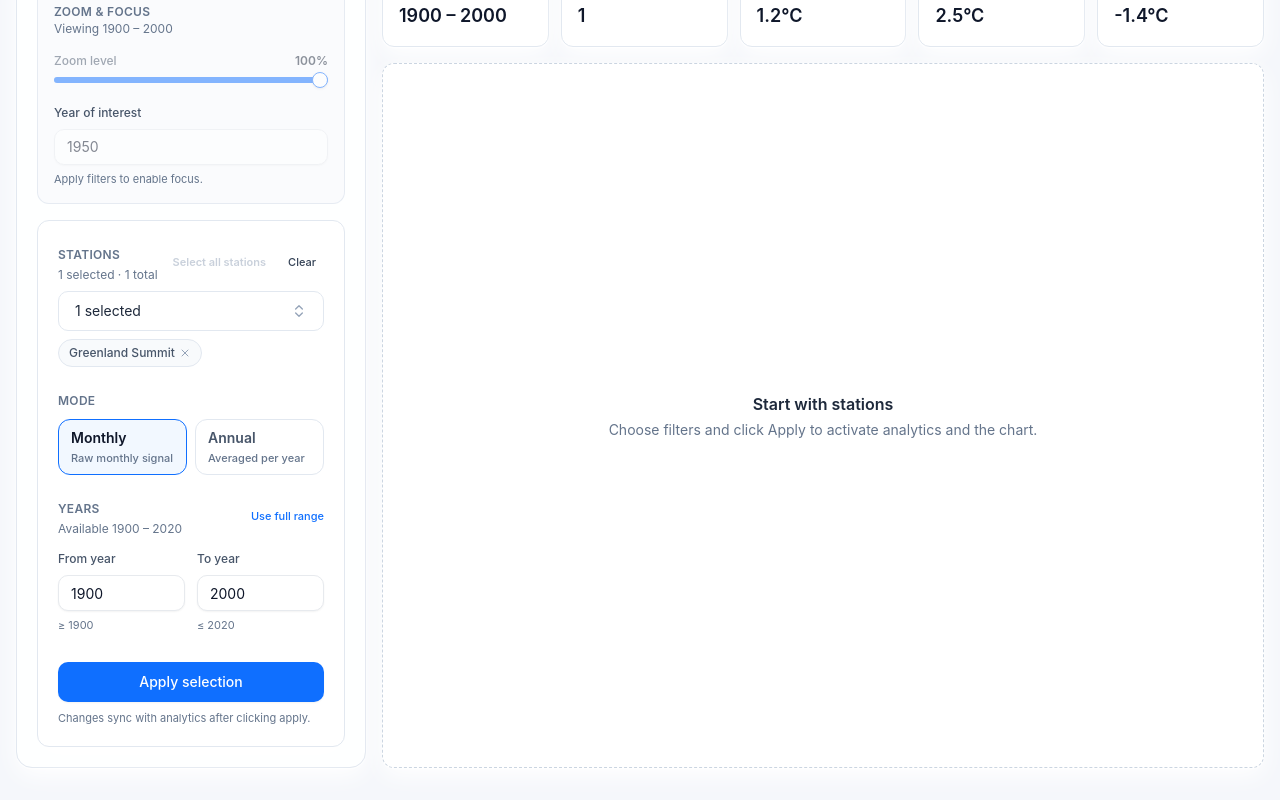
Scenario: ClimateExplorerPage › renders analytics cards and the chart when data is available
(page scrolled)
Click the button "Apply selection": (191, 682) [58,662,324,702]
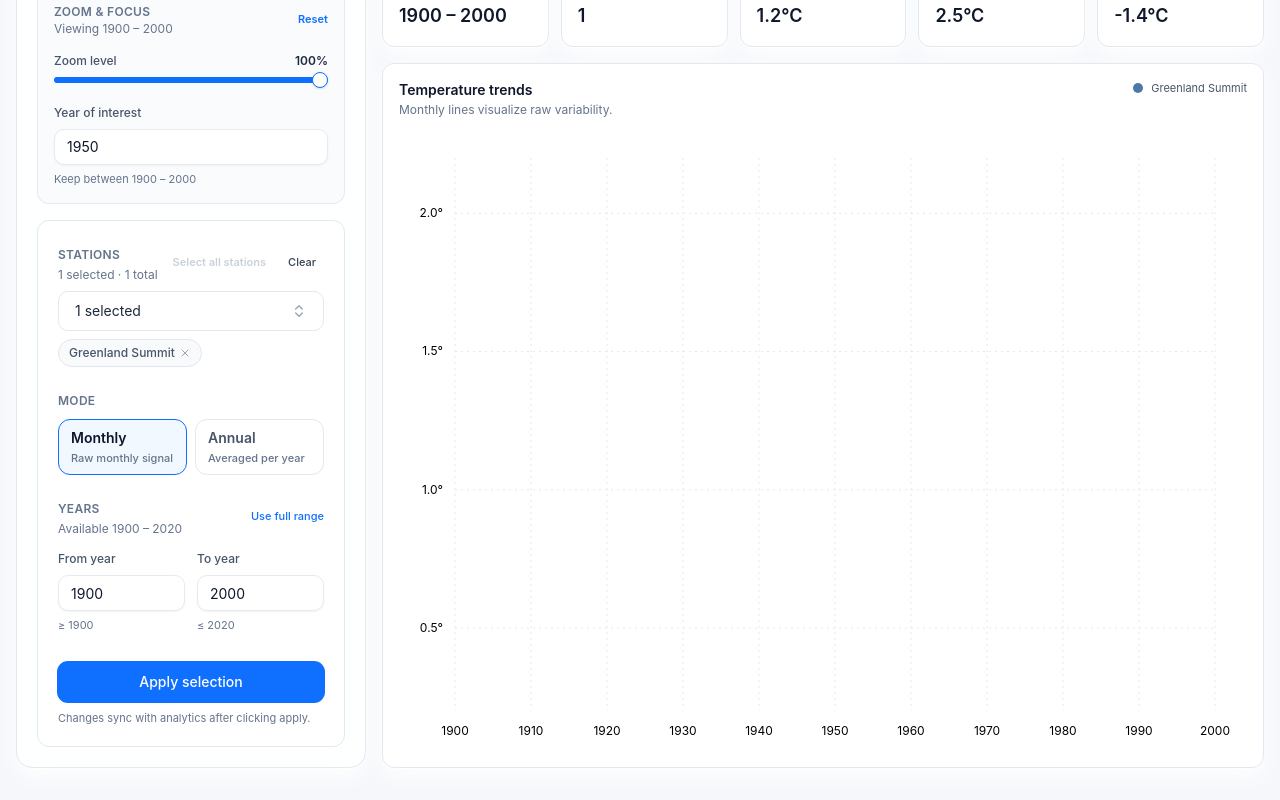
Result: the picture named "temperature chart" is shown at [399,134,1247,751]
